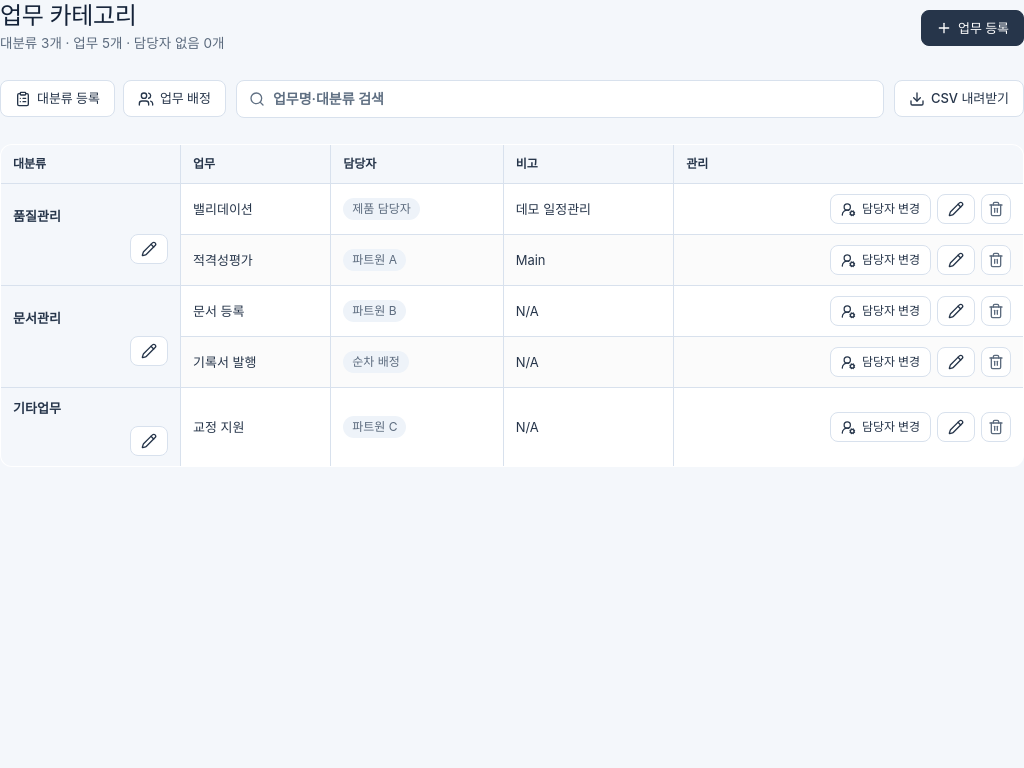
Test case: DutyMasterPanel duty reassignment (P0-3) › moves a duty to another member with a required reason from the table row
Click the button "담당자 변경" in the row of "적격성평가". click: (880, 260)
box: [830,245,931,275]
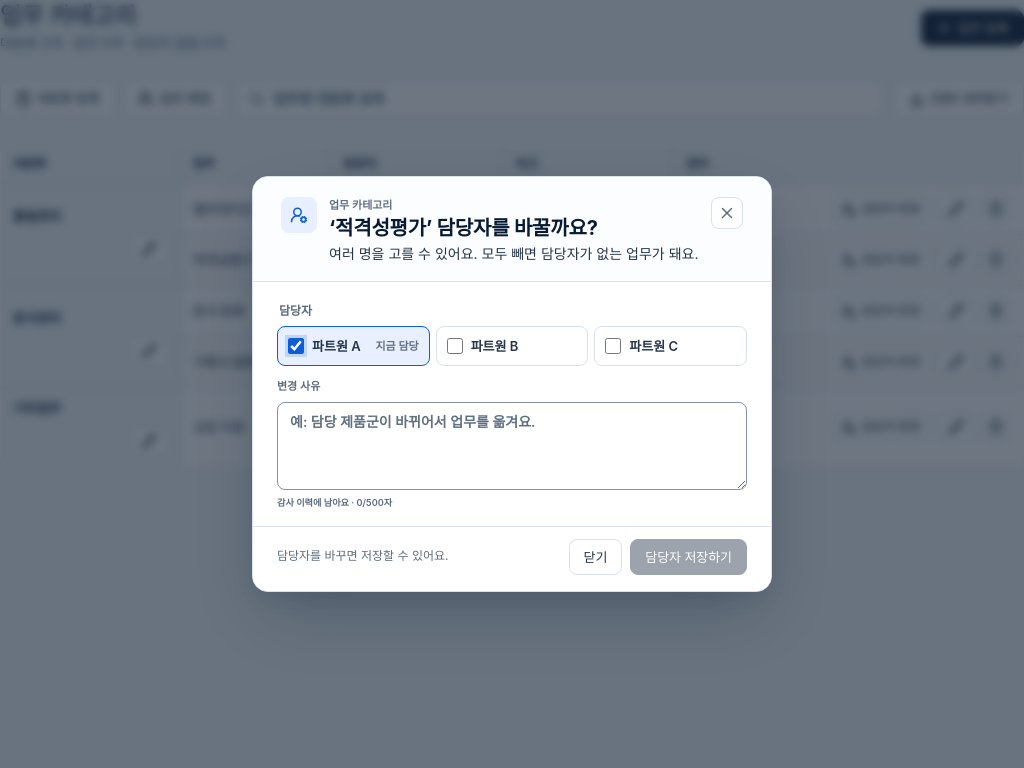
Click the checkbox labelled "파트원 A 지금 담당". click: (296, 346)
box: [288,338,304,354]
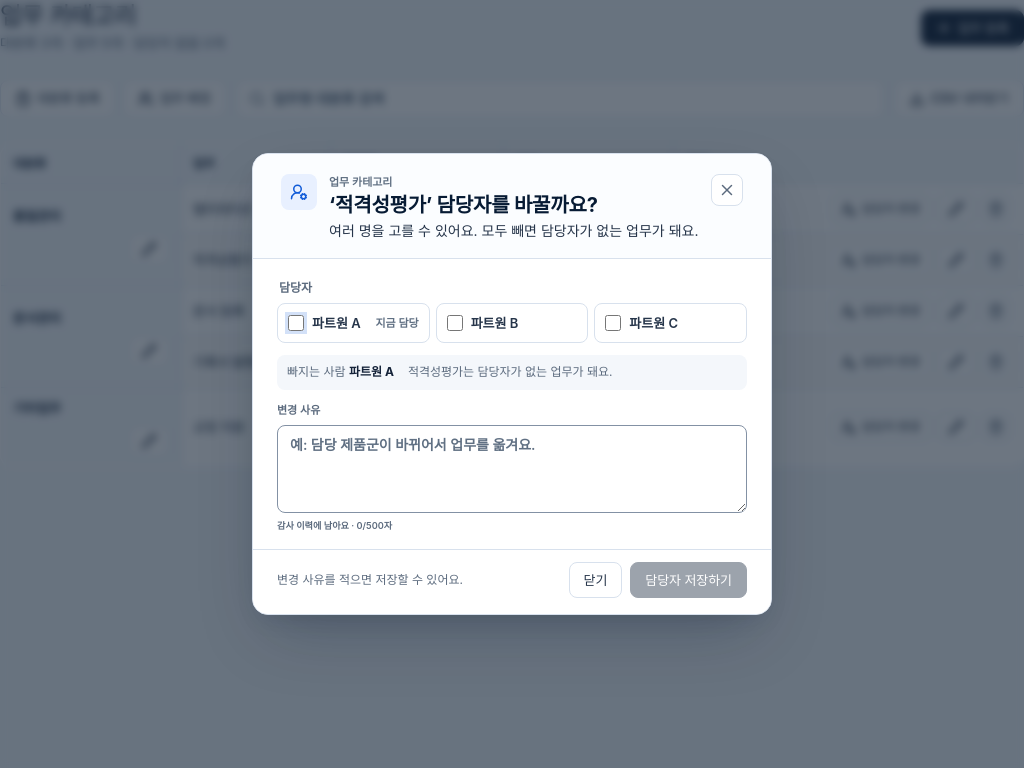
Click the checkbox labelled "파트원 B". click: (455, 323)
box: [447,315,463,331]
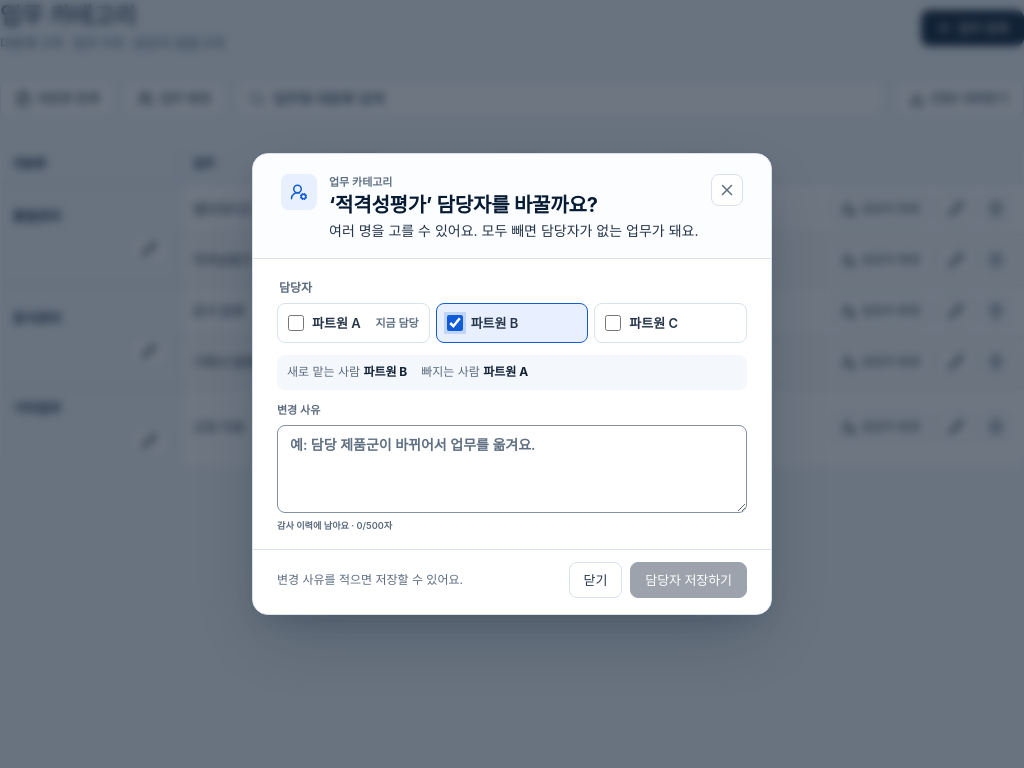
Type "담당 제품군 변경" into the text box labelled "변경 사유 감사 이력에 남아요 · 0/500자". click: (512, 469)
box: [277,425,747,513]
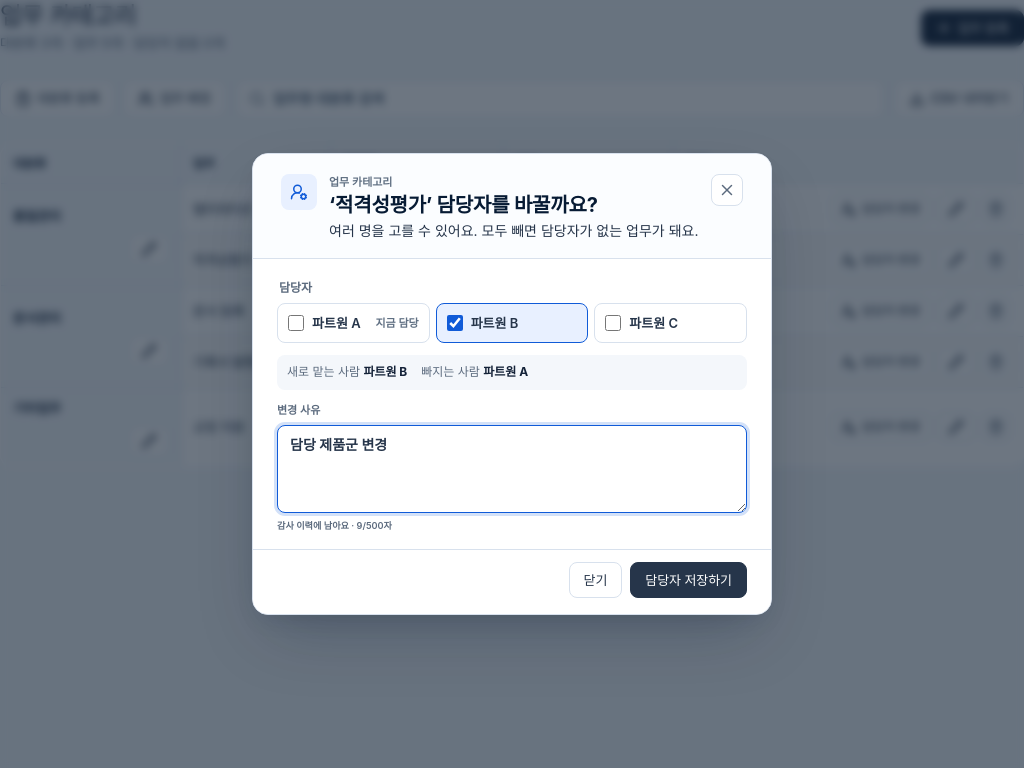
Click the button "담당자 저장하기". click: (689, 580)
box: [630,562,747,598]
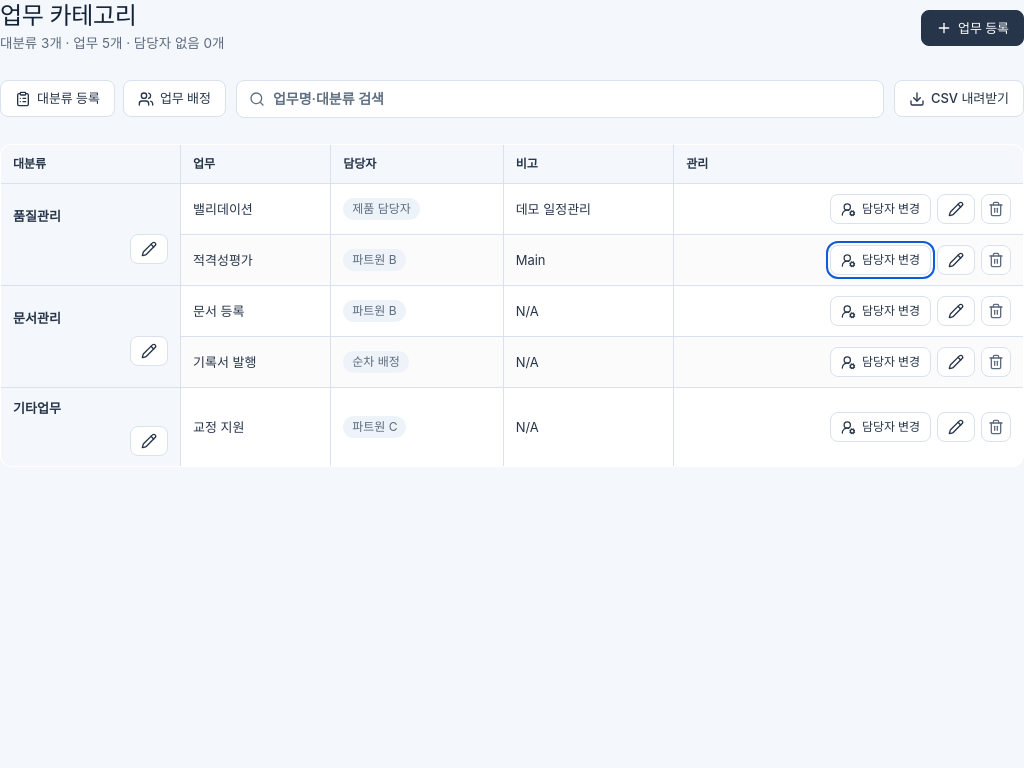
Check: the dialog is gone
